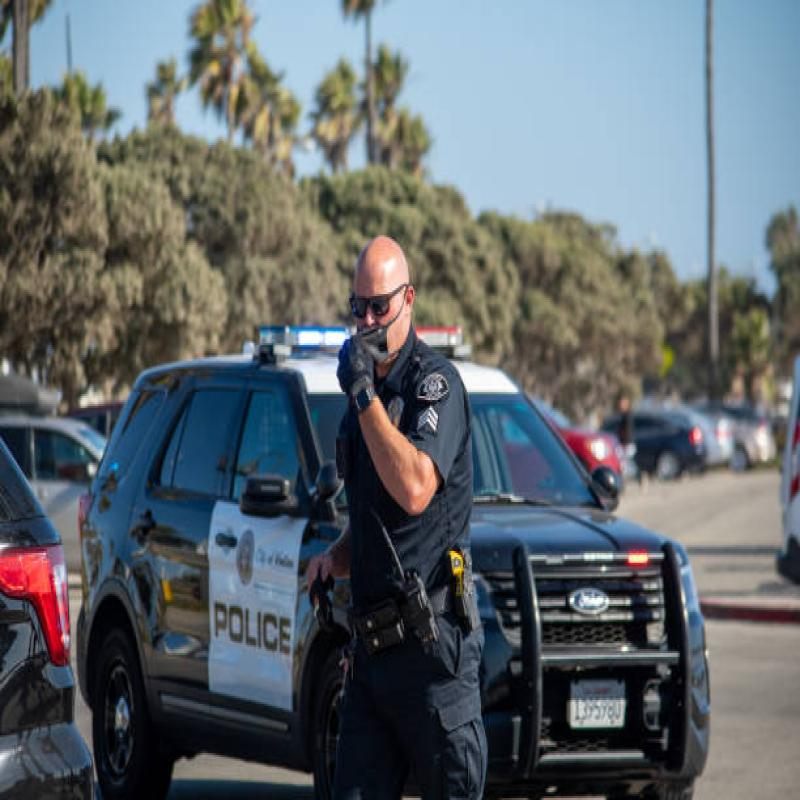AmbulanceSiren: (254, 286, 469, 372)
